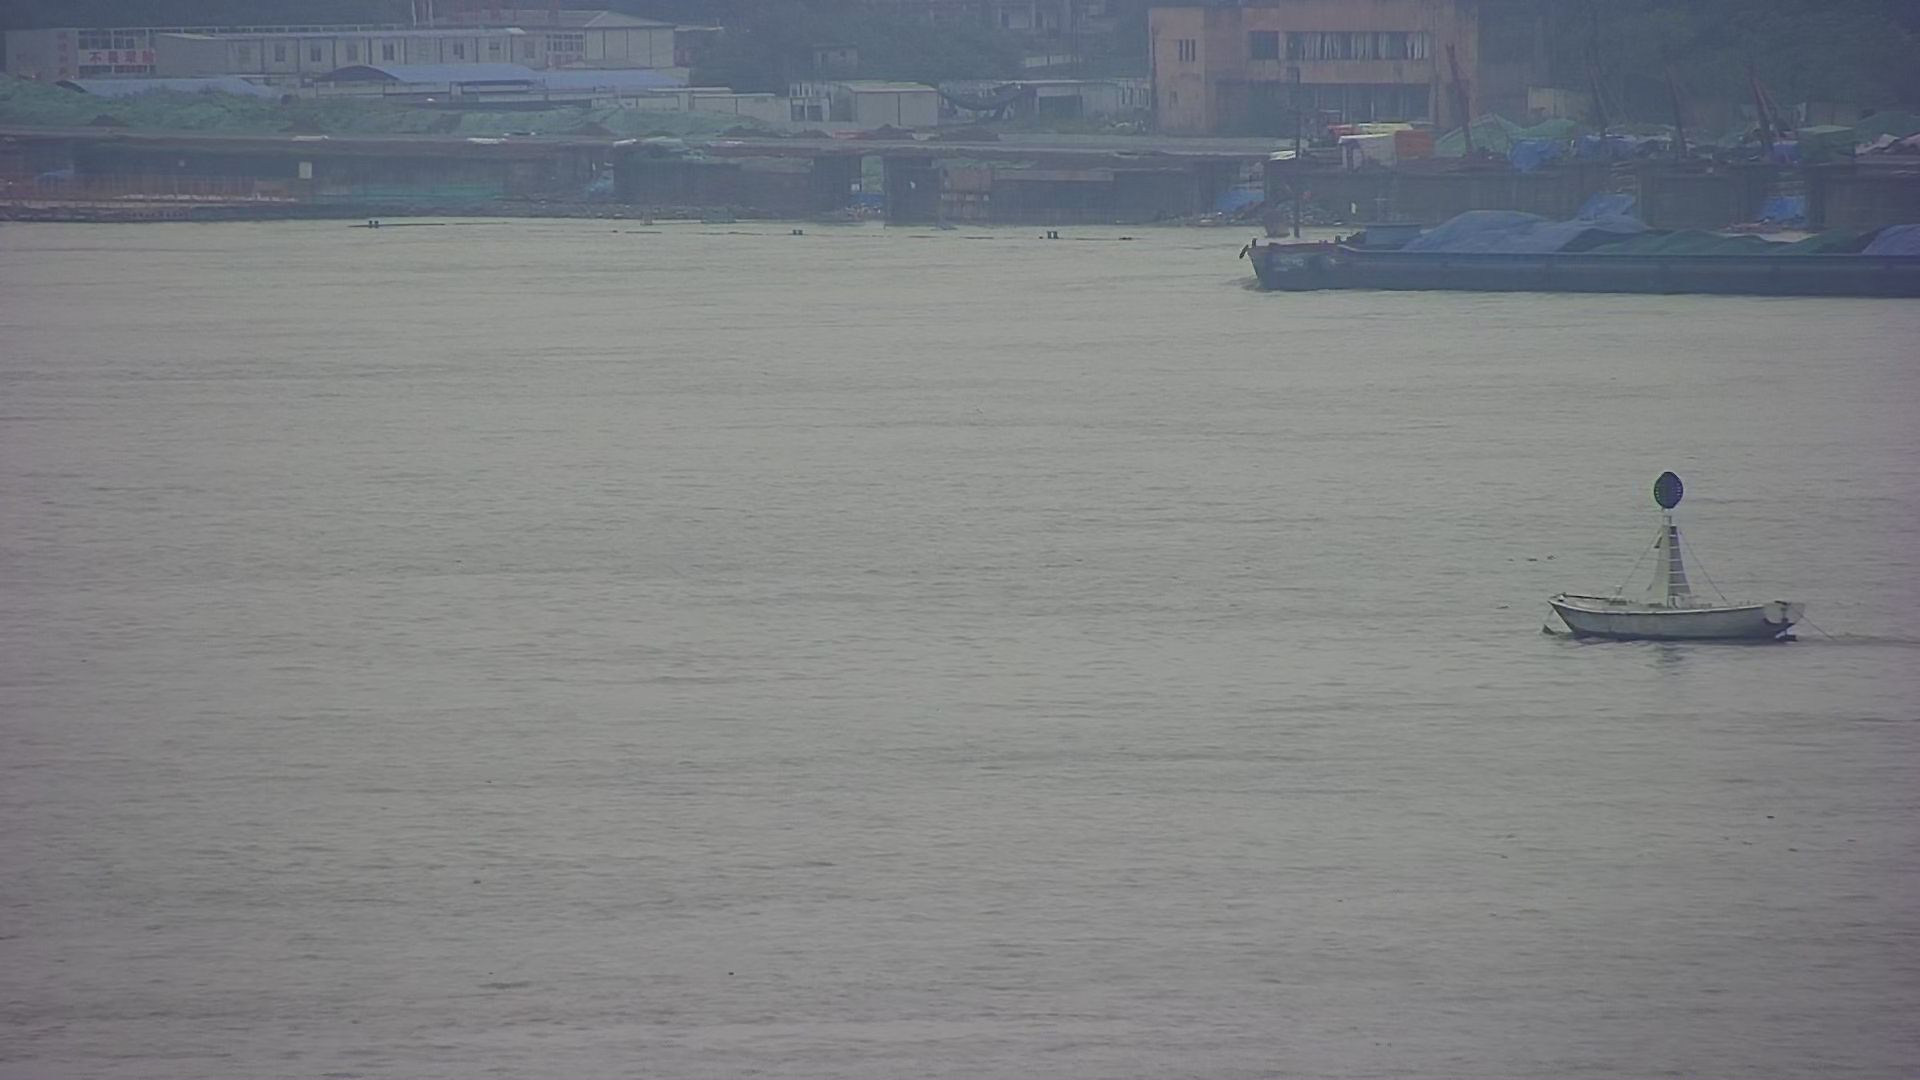boat: (1549, 467, 1801, 638)
ship: (1245, 181, 1920, 295)
